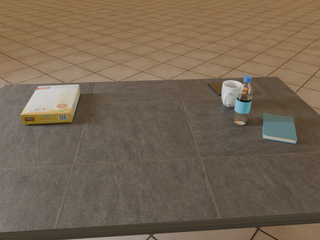book: (263, 113, 297, 144)
bottle: (233, 76, 252, 125)
box: (21, 85, 80, 124)
cup: (221, 81, 242, 107)
phone: (208, 82, 222, 95)
